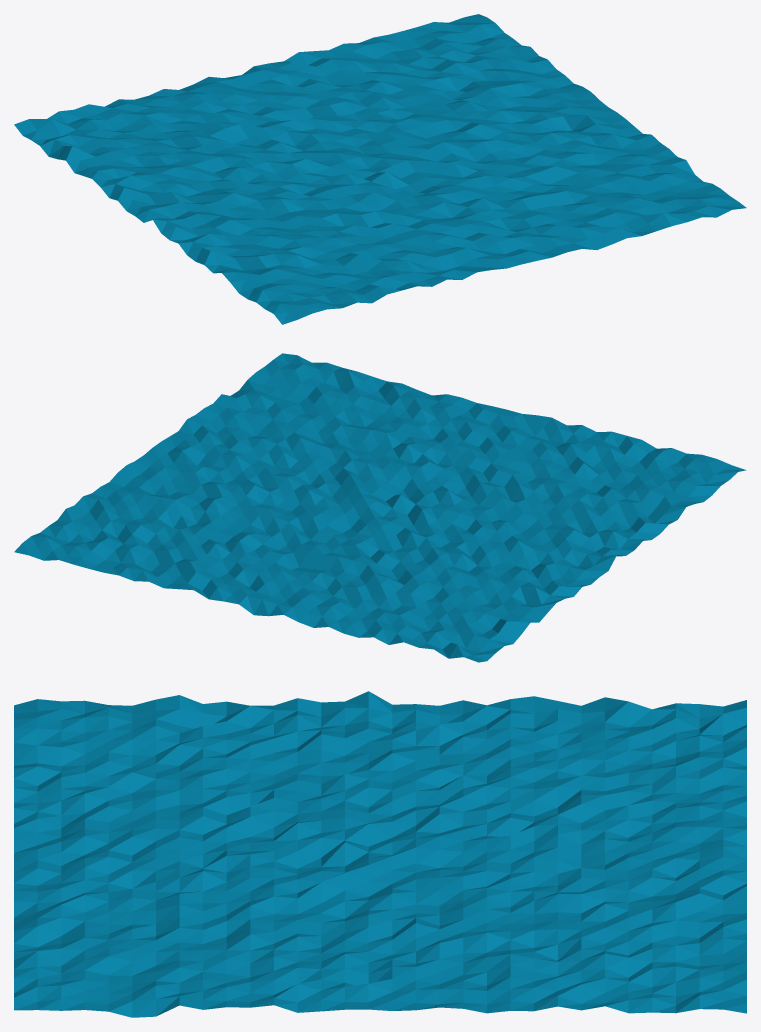
File: LPLake.fbx
3 renders of one model, top to bottom at view 1: azimuth 30°, elevation 25°; view 2: azimuth 150°, elevation 25°; view 3: azimuth 270°, elevation 25°, orthographic. The views are drawn at different scales.
Visible parts, largest first — view 1: Plane; view 2: Plane; view 3: Plane.
Part boxes in pixels (x1,y1,x2,y2): Plane: (14, 14, 746, 324); Plane: (14, 353, 746, 662); Plane: (14, 691, 746, 1017).
Size of the model in its own units: 1065 by 31.6 by 1065.
